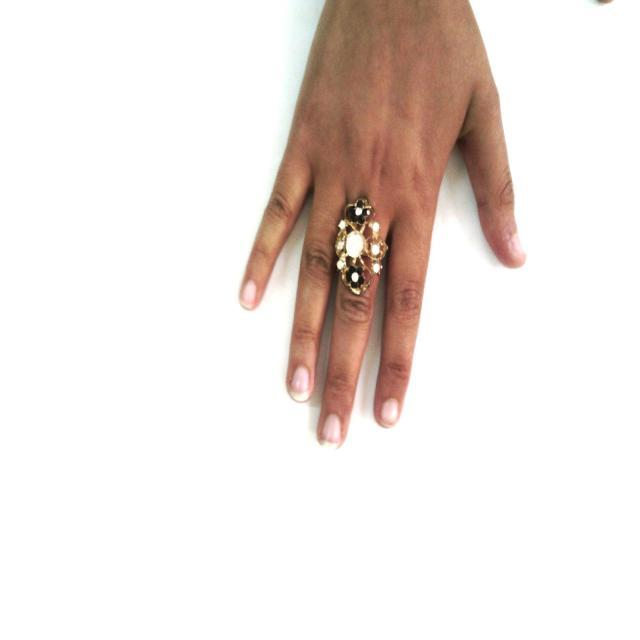Fingernail: (321, 413, 342, 446), (291, 366, 311, 400), (381, 399, 398, 424), (241, 282, 257, 308), (510, 234, 525, 259)
